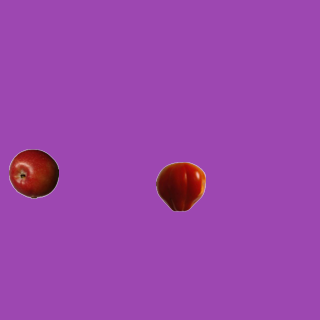Apple Braeburn: (8, 148, 58, 198)
Tomato 1: (155, 161, 205, 211)
